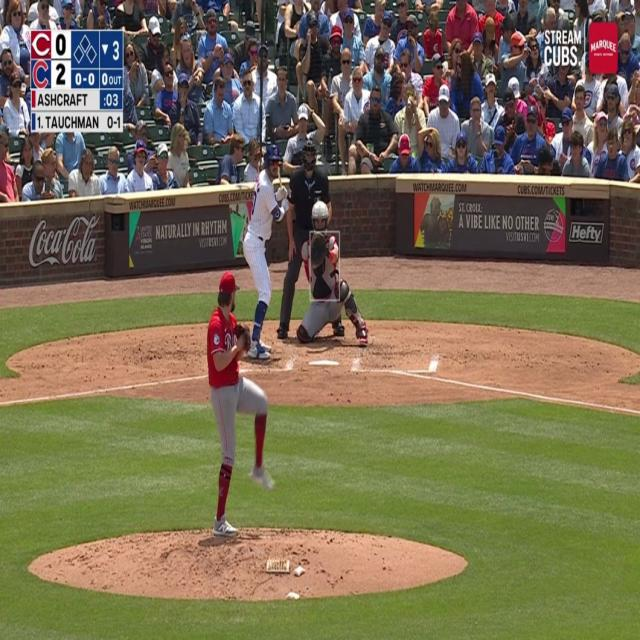Bat: (264, 111, 292, 212)
Player: (189, 252, 287, 542)
